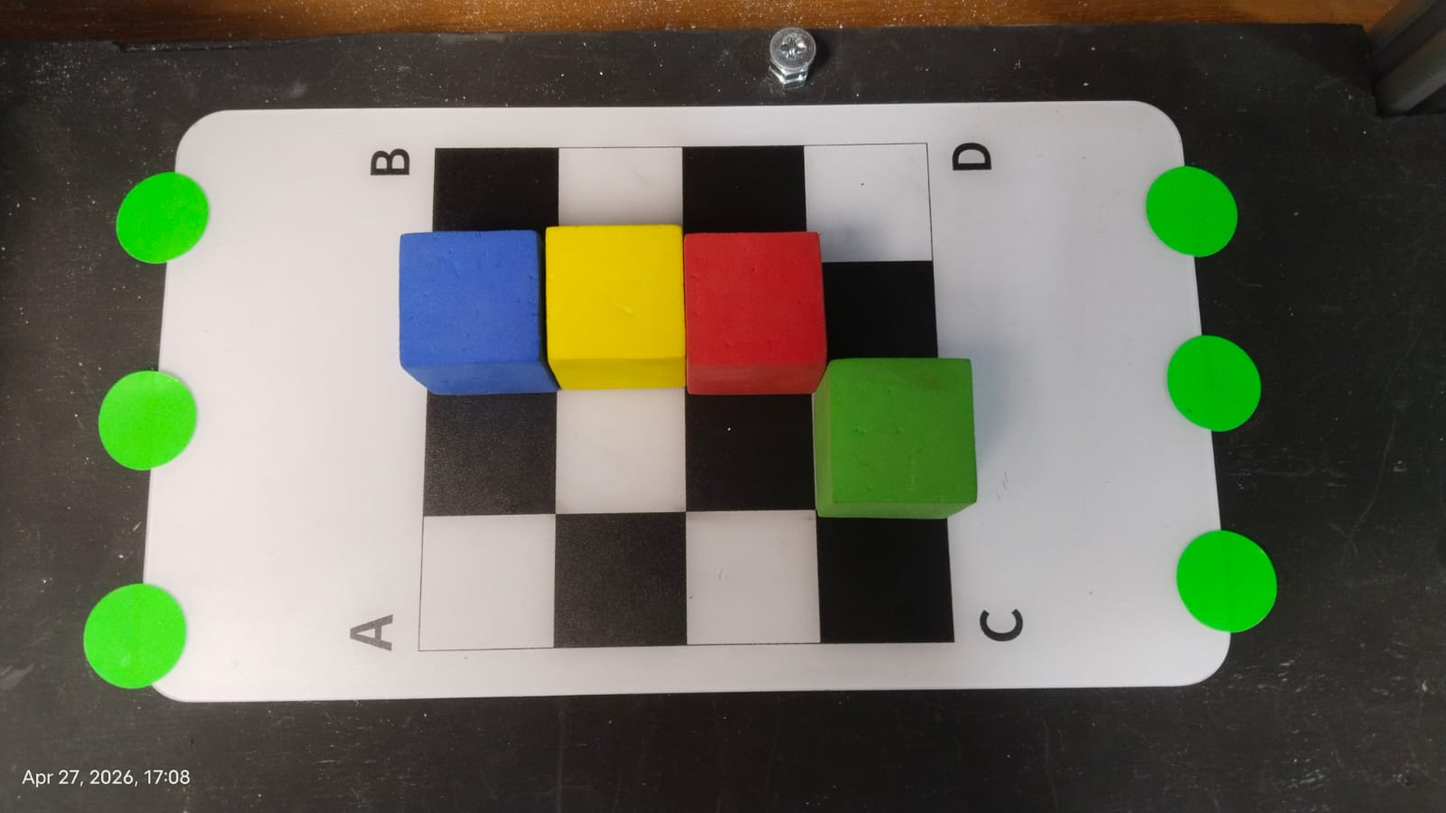blue: (393, 230, 560, 397)
green: (811, 351, 984, 525)
red: (684, 228, 831, 396)
yellow: (539, 222, 690, 394)
